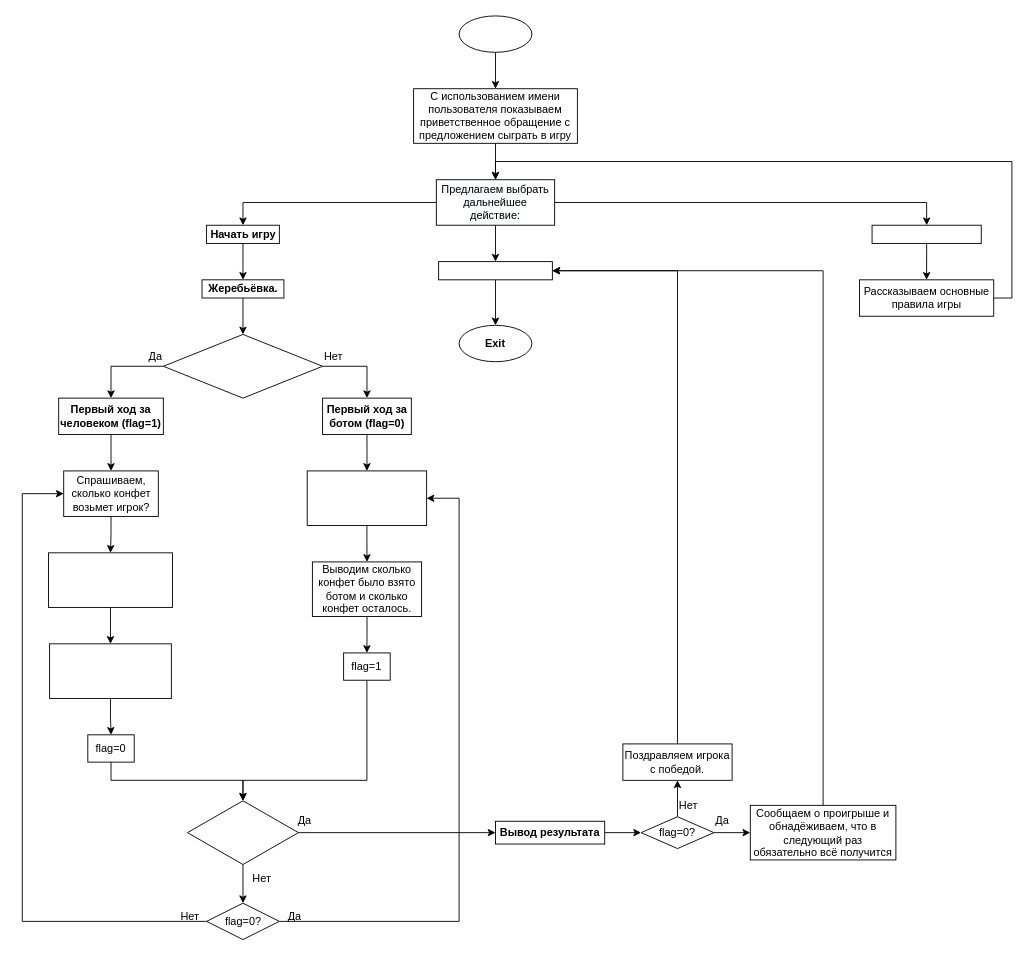
The diagram is 1036 pixels wide and 956 high, and some of its shapes have lost their labels. The shapes that lost their labels are listed below. From the top down, each one's centre as x and y in pixels, then its label:
At point (495, 33): "Start".
At point (926, 233): "Показать справку".
At point (495, 270): "Заваершить работу".
At point (242, 366): "Случайное число от 1 до 6 - чётное?".
At point (366, 498): "Вычитаем из входящего числа конфет случайное число от 1 до 28.".
At point (110, 579): "Игрок отправляет количество конфет и подтверждает свой ход командой '/ok'.".
At point (110, 670): "Принятое количество конфет вычитаем из первоначального числа.".
At point (242, 832): "Конфет осталось меньше 1?".
